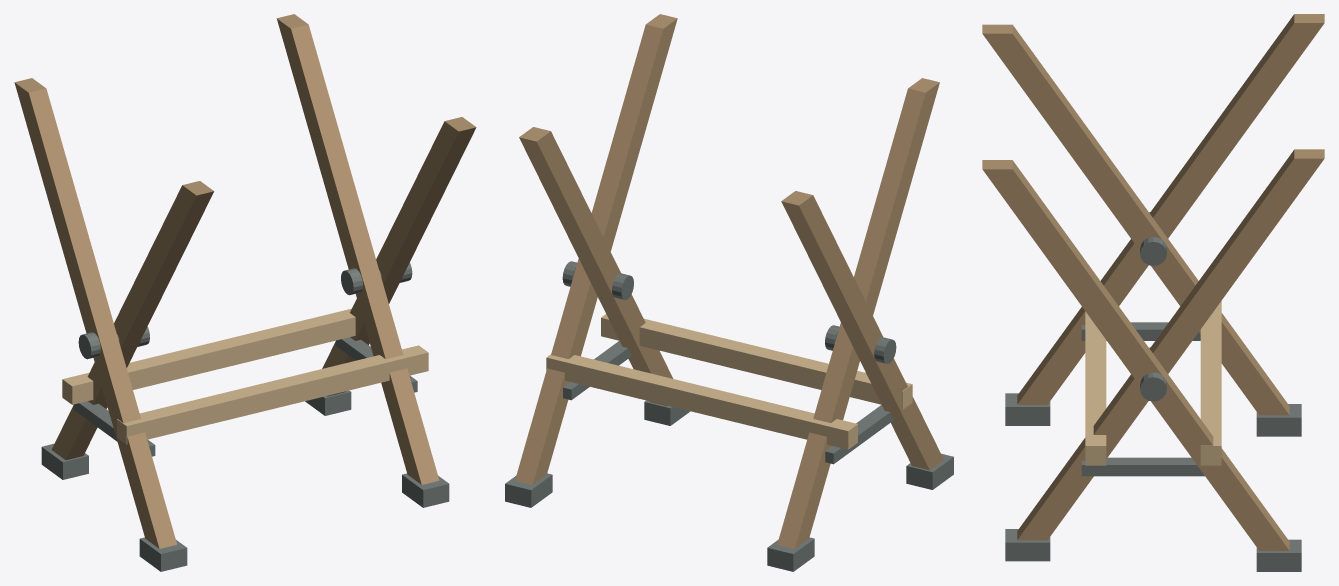
3 renders of one model, left to right at view 1: azimuth 30°, elevation 25°; view 2: azimuth 150°, elevation 25°; view 3: azimuth 270°, elevation 25°, orthographic. The views are drawn at different scales.
Visible parts, largest first — view 1: WholeContinuousCrossLeg(-1, -1), WholeContinuousCrossLeg(1, -1), WholeLowLongitudinalTie-1, WholeContinuousCrossLeg(-1, 1), WholeLowLongitudinalTie1, WholeContinuousCrossLeg(1, 1), WholeGroundFoot(-1, -1), WholeGroundFoot(1, -1), WholeGroundFoot(-1, 1), WholeLowerStopStrap-1, WholeGroundFoot(1, 1), WholeLowerStopStrap1; view 2: WholeContinuousCrossLeg(-1, 1), WholeContinuousCrossLeg(1, 1), WholeContinuousCrossLeg(-1, -1), WholeLowLongitudinalTie1, WholeContinuousCrossLeg(1, -1), WholeLowLongitudinalTie-1, WholeLowerStopStrap-1, WholeGroundFoot(-1, 1), WholeGroundFoot(1, 1), WholeGroundFoot(-1, -1), WholeLowerStopStrap1, WholeGroundFoot(1, -1); view 3: WholeContinuousCrossLeg(1, 1), WholeContinuousCrossLeg(1, -1), WholeContinuousCrossLeg(-1, 1), WholeContinuousCrossLeg(-1, -1), WholeLowLongitudinalTie1, WholeLowLongitudinalTie-1, WholeLowerStopStrap1, WholeGroundFoot(-1, 1), WholeGroundFoot(1, -1), WholeGroundFoot(-1, -1), WholeGroundFoot(1, 1), WholeSidePivotCap(1, 1) (+2 smaller).
Part boxes in pixels (box(x1,y1,x2,y2)): WholeContinuousCrossLeg(-1, -1): box(14, 78, 176, 548); WholeContinuousCrossLeg(1, -1): box(276, 14, 439, 484); WholeLowLongitudinalTie-1: box(117, 345, 428, 444); WholeContinuousCrossLeg(-1, 1): box(51, 181, 214, 459); WholeLowLongitudinalTie1: box(62, 308, 355, 404); WholeContinuousCrossLeg(1, 1): box(322, 117, 476, 396); WholeGroundFoot(-1, -1): box(139, 537, 187, 571); WholeGroundFoot(1, -1): box(402, 473, 449, 507); WholeGroundFoot(-1, 1): box(41, 444, 88, 479); WholeLowerStopStrap-1: box(73, 401, 155, 456); WholeGroundFoot(1, 1): box(305, 390, 351, 415); WholeLowerStopStrap1: box(335, 337, 417, 392); WholeContinuousCrossLeg(-1, 1): box(777, 78, 939, 548); WholeContinuousCrossLeg(1, 1): box(515, 14, 677, 484); WholeContinuousCrossLeg(-1, -1): box(781, 191, 943, 470); WholeLowLongitudinalTie1: box(546, 354, 857, 449); WholeContinuousCrossLeg(1, -1): box(519, 127, 673, 406); WholeLowLongitudinalTie-1: box(601, 314, 912, 409); WholeLowerStopStrap-1: box(825, 405, 893, 464); WholeGroundFoot(-1, 1): box(767, 537, 814, 571); WholeGroundFoot(1, 1): box(505, 473, 552, 507); WholeGroundFoot(-1, -1): box(906, 453, 953, 489); WholeLowerStopStrap1: box(563, 341, 631, 400); WholeGroundFoot(1, -1): box(644, 400, 689, 425); WholeContinuousCrossLeg(1, 1): box(982, 160, 1289, 550); WholeContinuousCrossLeg(1, -1): box(1017, 149, 1324, 540); WholeContinuousCrossLeg(-1, 1): box(982, 24, 1289, 415); WholeContinuousCrossLeg(-1, -1): box(1017, 14, 1324, 404); WholeLowLongitudinalTie1: box(1200, 301, 1221, 465); WholeLowLongitudinalTie-1: box(1085, 311, 1106, 465); WholeLowerStopStrap1: box(1081, 457, 1204, 476); WholeGroundFoot(-1, 1): box(1256, 404, 1301, 436); WholeGroundFoot(1, -1): box(1005, 529, 1050, 561); WholeGroundFoot(-1, -1): box(1005, 393, 1050, 425); WholeGroundFoot(1, 1): box(1256, 539, 1301, 571); WholeSidePivotCap(1, 1): box(1140, 372, 1166, 401).
Bounding box in the file's own units: 0.906 × 1.02 × 0.79.
